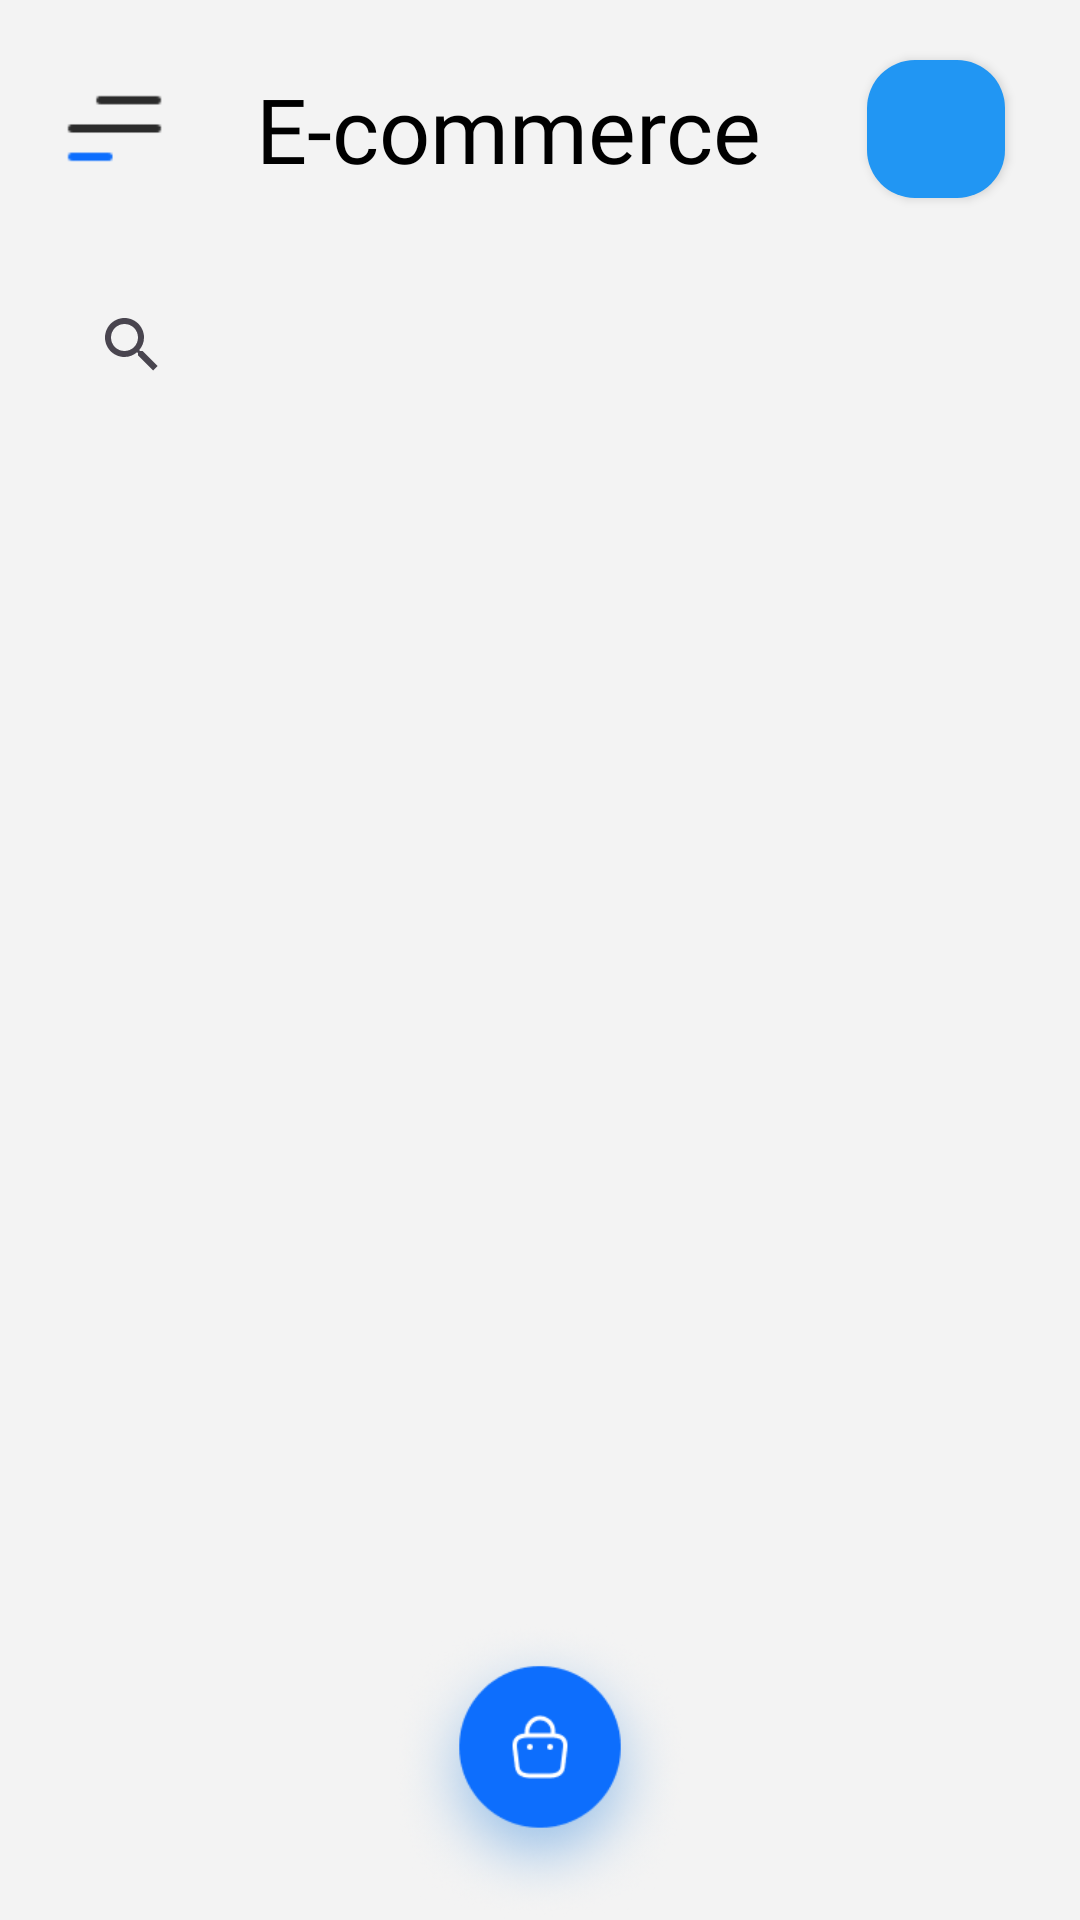

Screen size 1080×1920. Icon name, then its box in pixels as {"left": x1, "top": y1, "right": x2, "bottom": y2}:
cart: {"left": 446, "top": 1665, "right": 634, "bottom": 1866}
